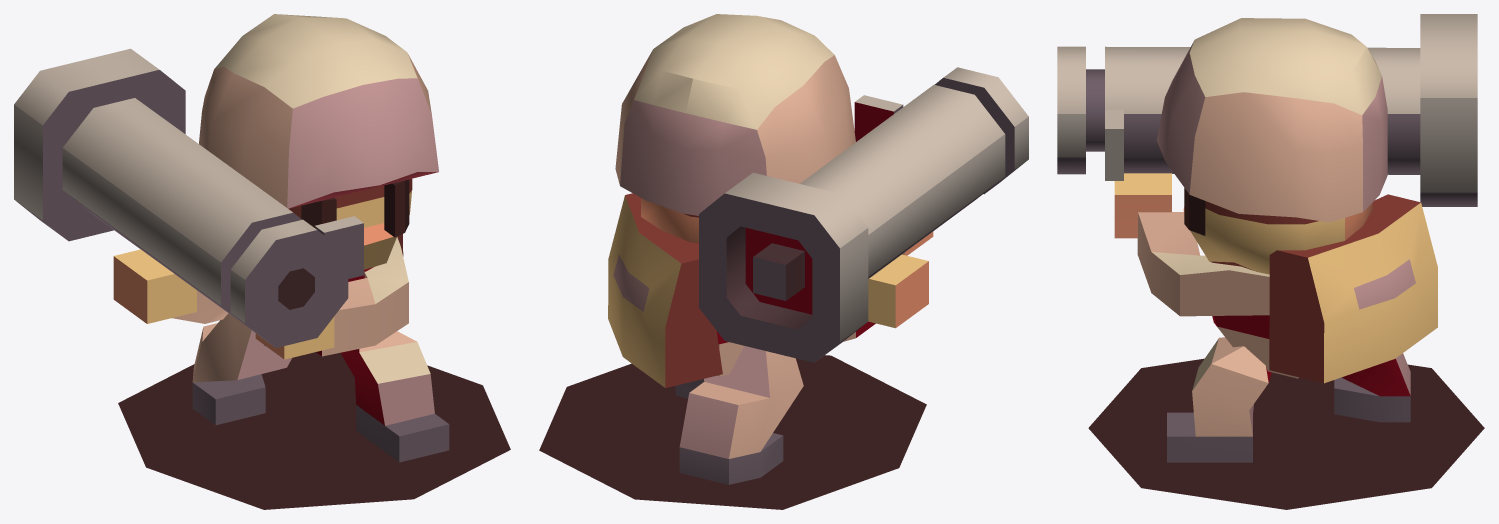
File: MechMesh.WhiteNova.glb
The picture shows the model from 3 angles, left to right: view 1: azimuth 30°, elevation 25°; view 2: azimuth 150°, elevation 25°; view 3: azimuth 270°, elevation 25°; orthographic projection.
Visible parts, largest first — view 1: MechMesh.WhiteNova; view 2: MechMesh.WhiteNova; view 3: MechMesh.WhiteNova.
Boxes of the visible parts, x1=… form: MechMesh.WhiteNova: x1=14, y1=14, x2=510, y2=509; MechMesh.WhiteNova: x1=539, y1=14, x2=1028, y2=509; MechMesh.WhiteNova: x1=1057, y1=14, x2=1484, y2=509.
Size of the model in its own units: 2.24 by 2.3 by 2.24.
Materials: 1 (1 with a texture image).
